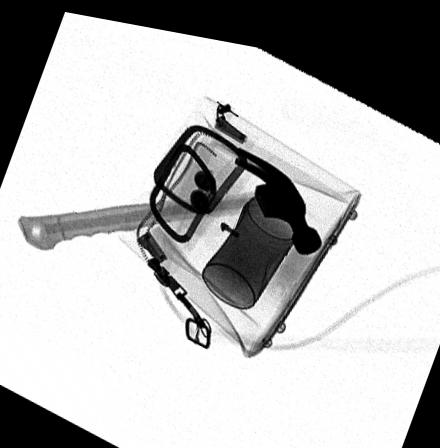Hammer: (16, 137, 324, 250)
